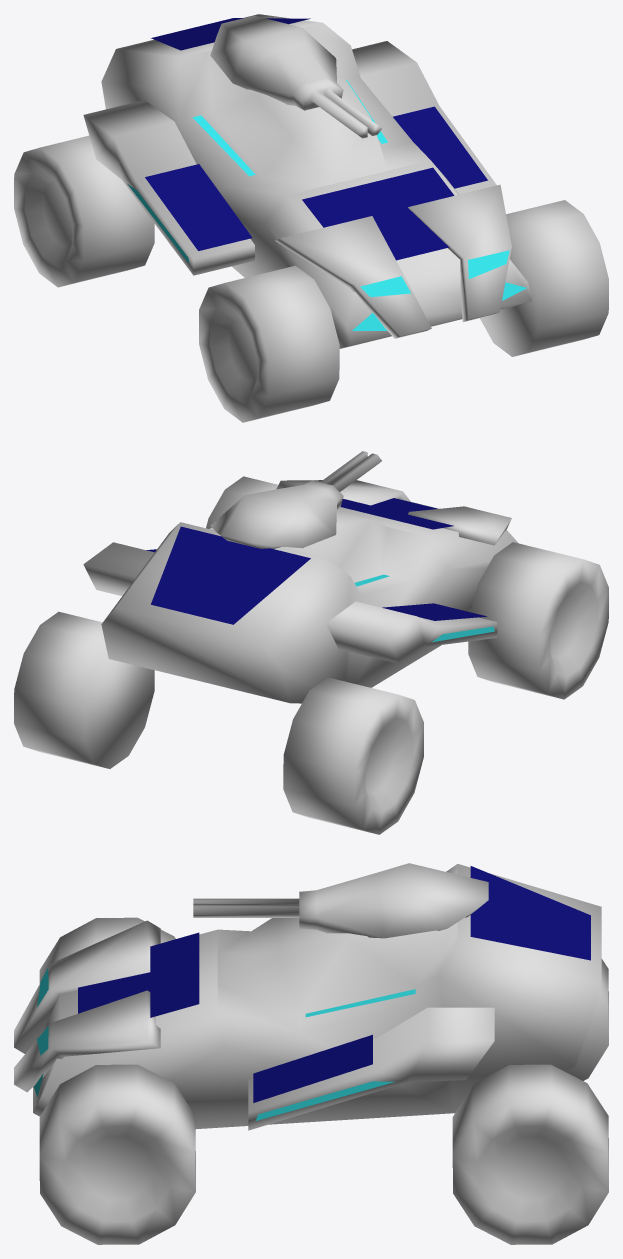
Rendered from Shooter.fbx.
The picture shows the model from 3 angles, top to bottom: view 1: azimuth 30°, elevation 25°; view 2: azimuth 150°, elevation 25°; view 3: azimuth 270°, elevation 25°; orthographic projection. The views are drawn at different scales.
Parts seen in each view (by area): view 1: Case, wheel_front.001, wheel_front.002, bumper, back_flank, case_gun, Side_part, Side_part.001, Lamps.001, Side_part.002, neon_part1, Lamps; view 2: Case, wheel_front.002, wheel_front.001, Side_part.002, back_flank, case_gun, bumper, Side_part.001, Side_part; view 3: Case, wheel_front.001, wheel_front.002, bumper, case_gun, back_flank, Side_part.002, Side_part.001, Side_part, neon_part2, neon_part1.
Part boxes in pixels (box(x1,y1,x2,y2)): Case: box(101, 14, 532, 348); wheel_front.001: box(199, 200, 608, 422); wheel_front.002: box(14, 135, 154, 287); bumper: box(275, 184, 511, 338); back_flank: box(83, 41, 496, 275); case_gun: box(210, 15, 381, 138); Side_part: box(145, 106, 487, 250); Side_part.001: box(302, 167, 454, 260); Lamps.001: box(360, 250, 509, 297); Side_part.002: box(151, 18, 310, 50); neon_part1: box(192, 80, 387, 176); Lamps: box(352, 282, 526, 330); Case: box(101, 499, 518, 703); wheel_front.002: box(14, 611, 423, 834); wheel_front.001: box(206, 476, 608, 699); Side_part.002: box(151, 526, 310, 624); back_flank: box(83, 542, 497, 663); case_gun: box(210, 451, 381, 548); bumper: box(276, 480, 511, 545); Side_part.001: box(340, 498, 453, 529); Side_part: box(146, 549, 487, 620); Case: box(33, 864, 601, 1128); wheel_front.001: box(39, 917, 195, 1244); wheel_front.002: box(452, 959, 608, 1244); bumper: box(14, 920, 160, 1092); case_gun: box(193, 863, 488, 938); back_flank: box(248, 1007, 494, 1130); Side_part.002: box(470, 866, 590, 960); Side_part.001: box(78, 932, 199, 1017); Side_part: box(253, 1034, 372, 1102); neon_part2: box(255, 1081, 395, 1120); neon_part1: box(305, 989, 415, 1017).
Bounding box in the file's own units: 288 × 198 × 391.
